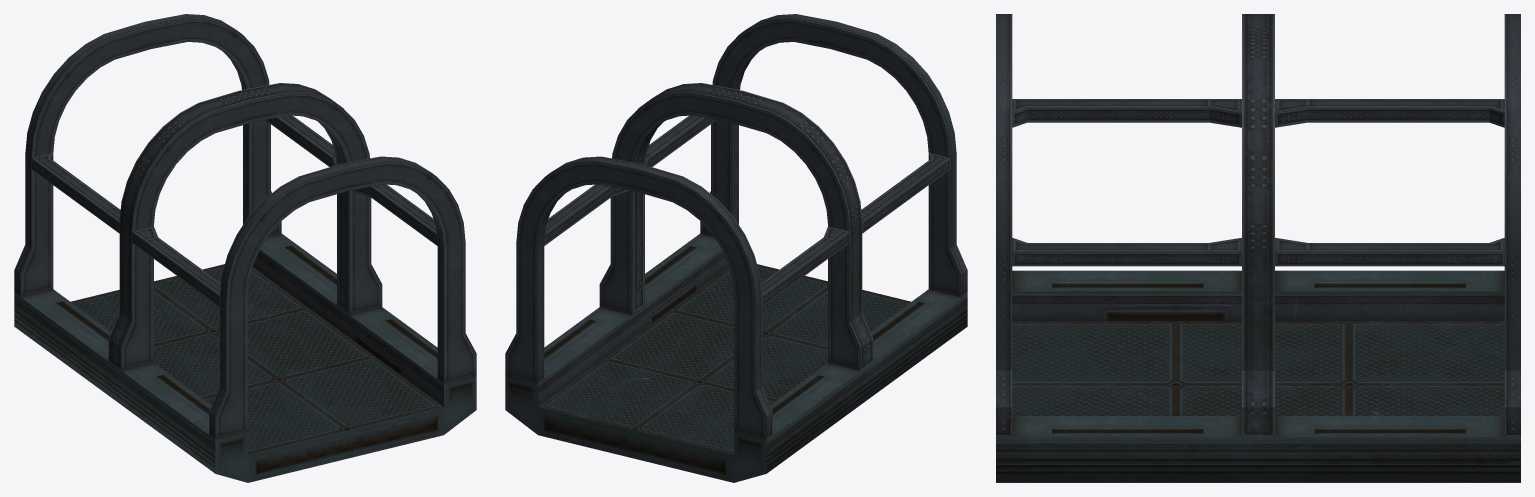
Rendered from tunnelstraightaway_low.obj.
3 views of the same model, side by side, from view 1: azimuth 30°, elevation 25°; view 2: azimuth 150°, elevation 25°; view 3: azimuth 270°, elevation 25° (orthographic). The views are drawn at different scales.
Parts seen in each view (by area): view 1: tunnelstraightaway_low; view 2: tunnelstraightaway_low; view 3: tunnelstraightaway_low.
Part boxes in pixels (bbox=[...]): tunnelstraightaway_low: bbox=[14, 14, 476, 482]; tunnelstraightaway_low: bbox=[505, 14, 967, 482]; tunnelstraightaway_low: bbox=[996, 14, 1520, 482].
Size of the model in its own units: 384 by 408 by 512.
